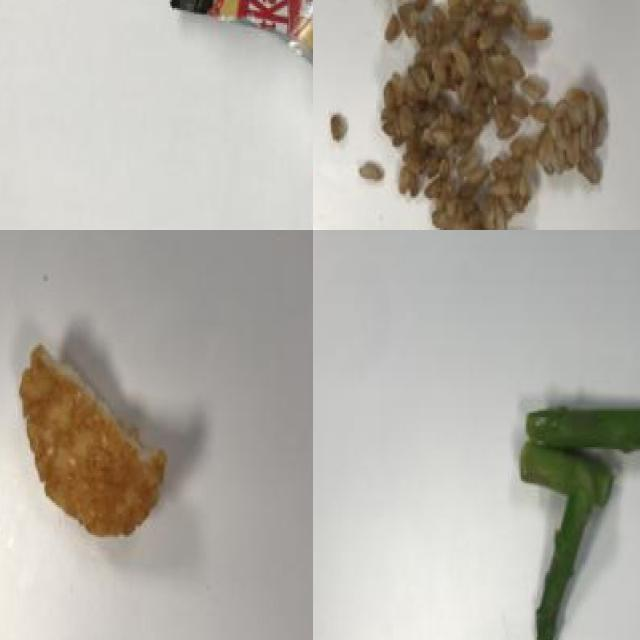compost: (313, 0, 631, 230), (0, 324, 192, 554), (501, 387, 640, 640)
trash: (147, 0, 313, 230)
